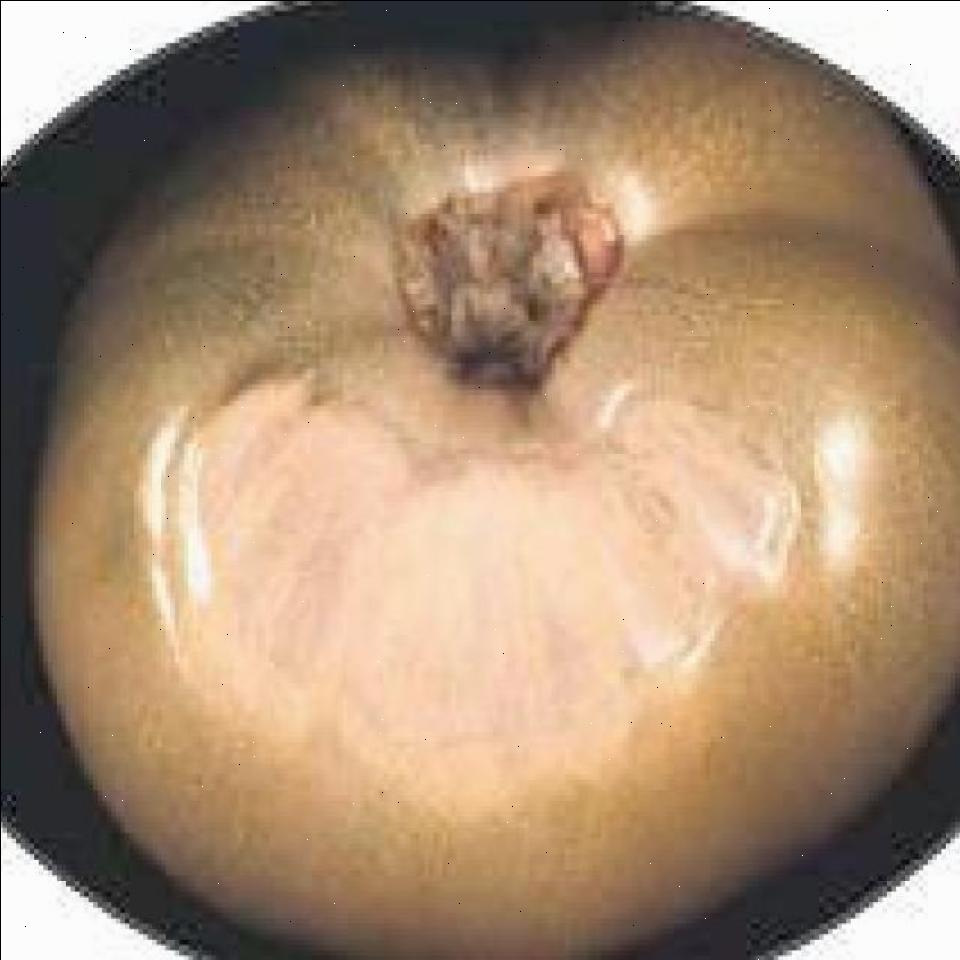Sunscald: (142, 309, 809, 826)
